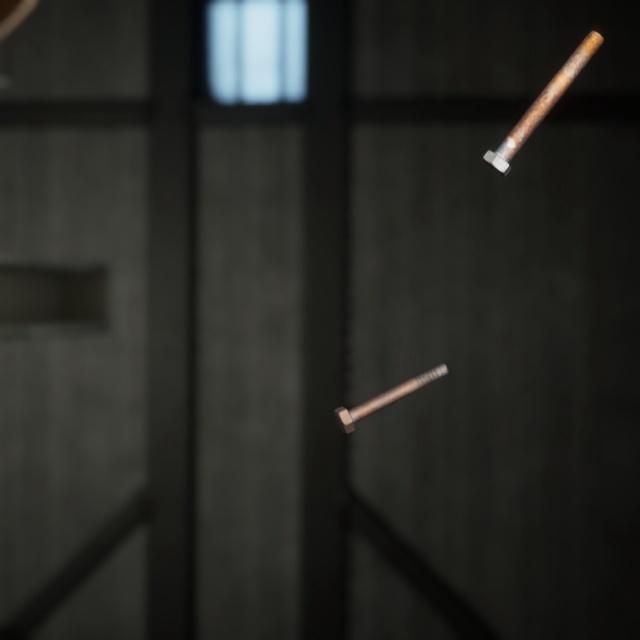bolt: (478, 14, 608, 169), (329, 340, 453, 419)
